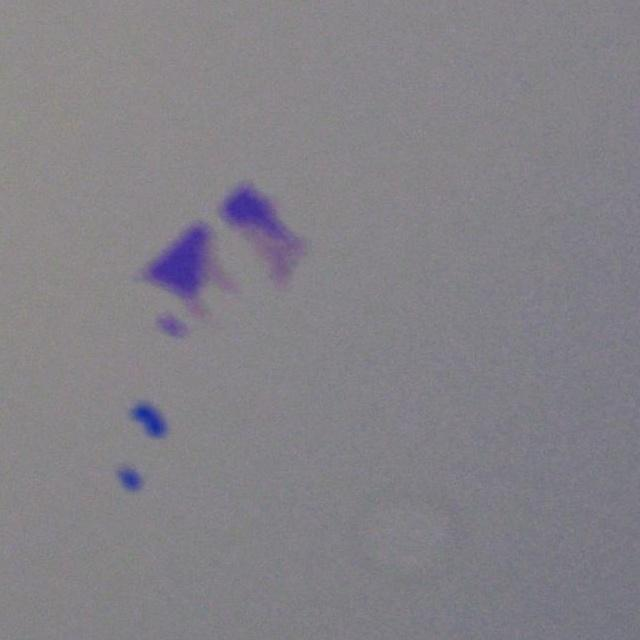monolayer-eWW4: (242, 219, 306, 286)
